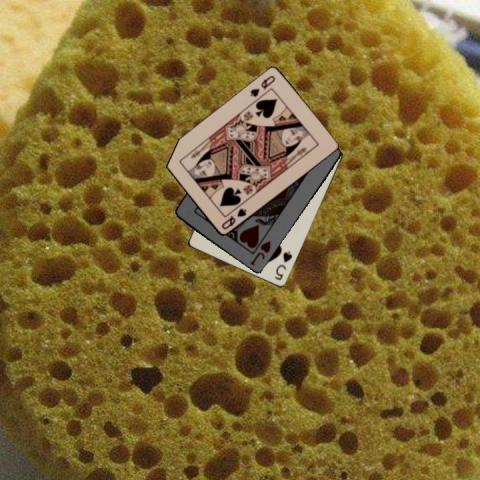5s: (272, 248, 294, 282)
Jh: (247, 238, 272, 267)
Qs: (218, 206, 248, 231), (247, 73, 277, 98)
